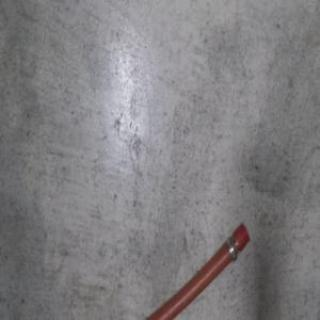Hosetrack_idkeyframe: (135, 221, 250, 319)
